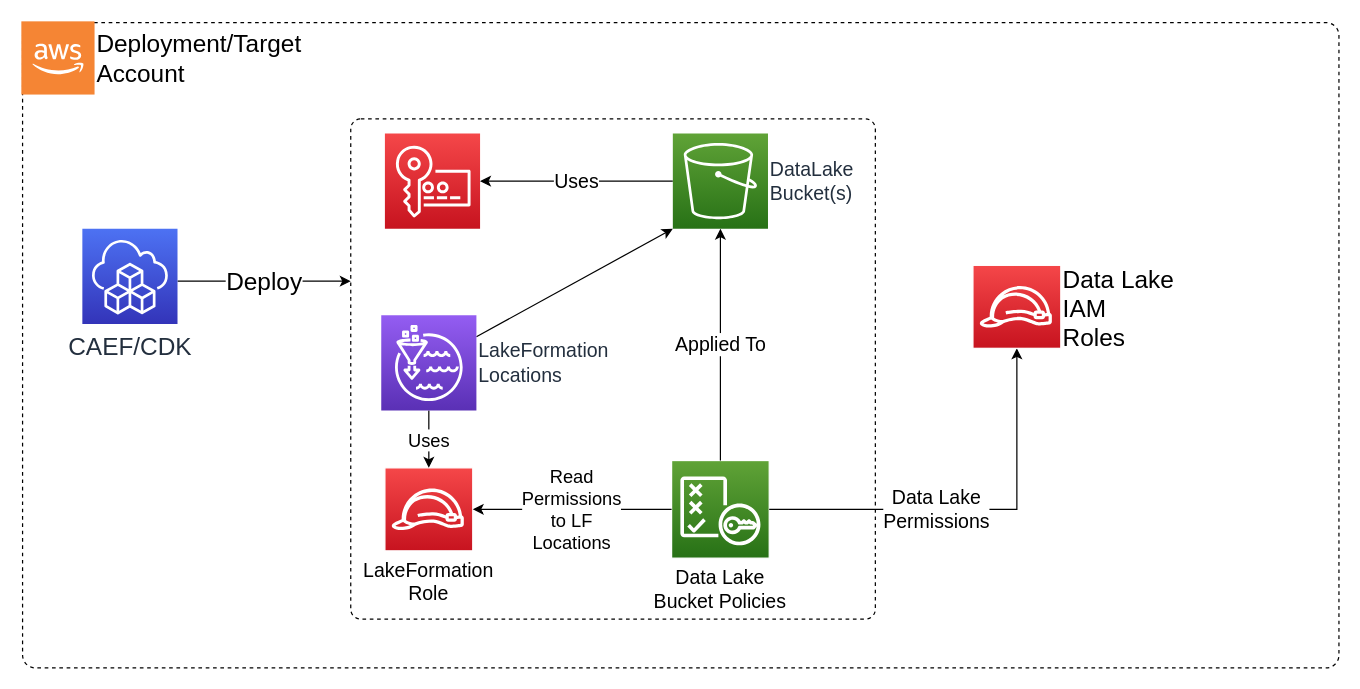
The diagram is 1360 pixels wide and 689 high, and some of its shapes have lost their labels. Here are the shapes that lost their labels. From the top down, the box of each, then its label:
(384, 132, 480, 229): Data Lake KMS Key
(350, 118, 875, 619): Deployed Resources
